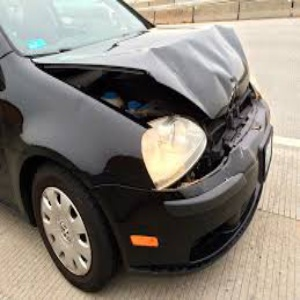bonnet: (115, 33, 243, 109)
bumper: (96, 186, 171, 274)
head_lights: (137, 114, 209, 186)
